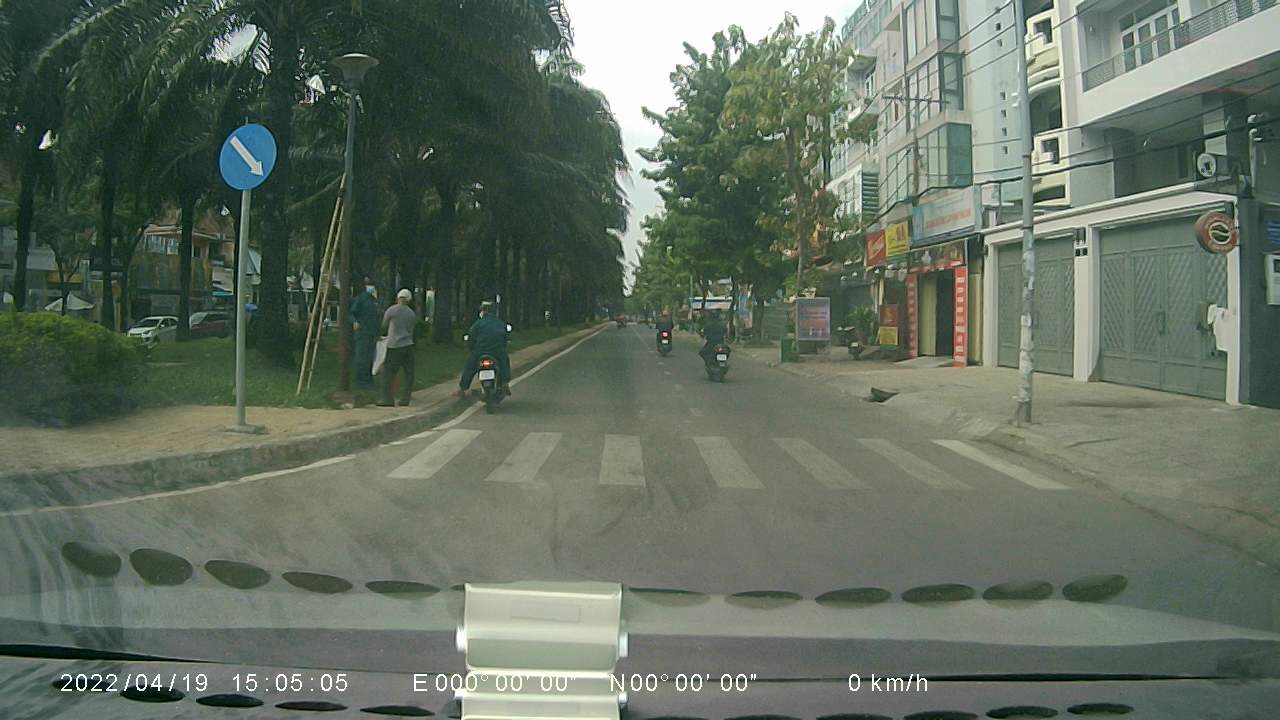Huong di phai re phai: (223, 125, 274, 189)
